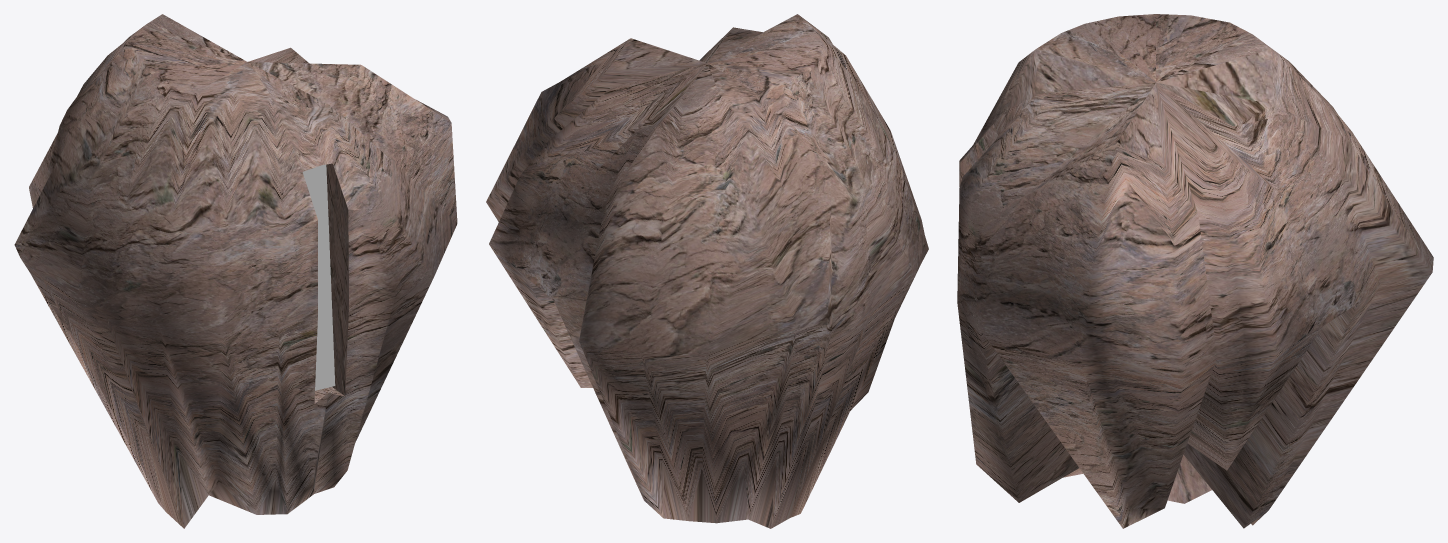
The model's file is Rune.obj.
3 renders of one model, left to right at view 1: azimuth 30°, elevation 25°; view 2: azimuth 150°, elevation 25°; view 3: azimuth 270°, elevation 25°, orthographic. The views are drawn at different scales.
Parts seen in each view (by area): view 1: pSphere2, pCube3; view 2: pSphere2; view 3: pSphere2.
Part boxes in pixels (x1,y1,x2,y2): pSphere2: [14, 14, 457, 528]; pCube3: [302, 164, 335, 390]; pSphere2: [486, 14, 928, 528]; pSphere2: [957, 14, 1433, 528].
Bounding box in the file's own units: 4.74 × 5.23 × 4.66.
